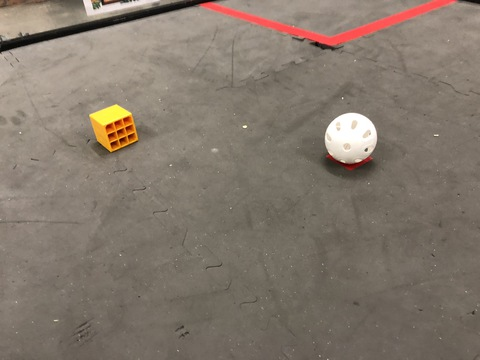ball: (314, 112, 384, 174)
block: (86, 98, 145, 163)
